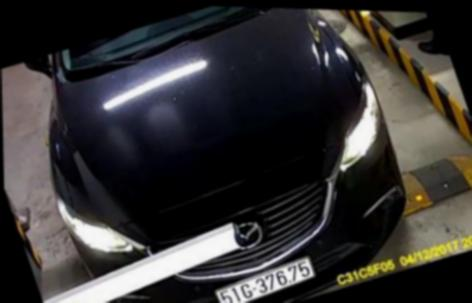License_Plate: (210, 253, 321, 303)
